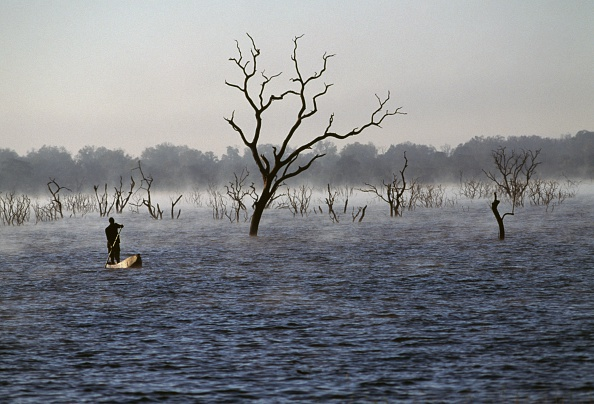em pe: (90, 207, 134, 262)
